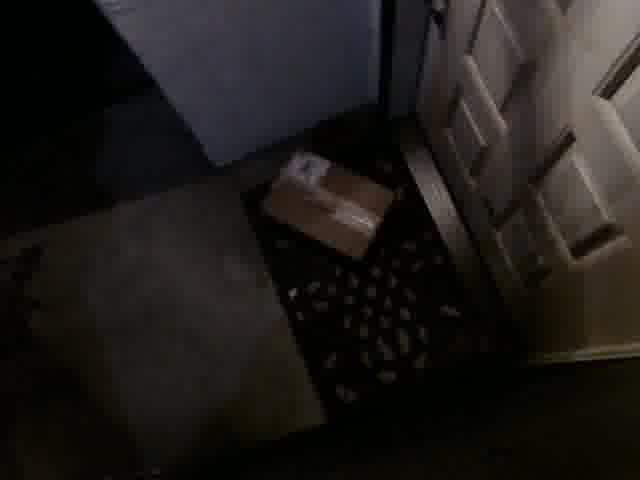box: (254, 146, 395, 265)
